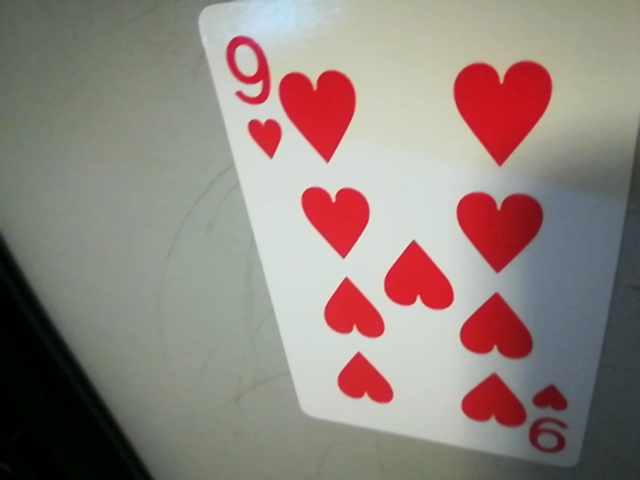hx 9: (215, 24, 281, 164)
